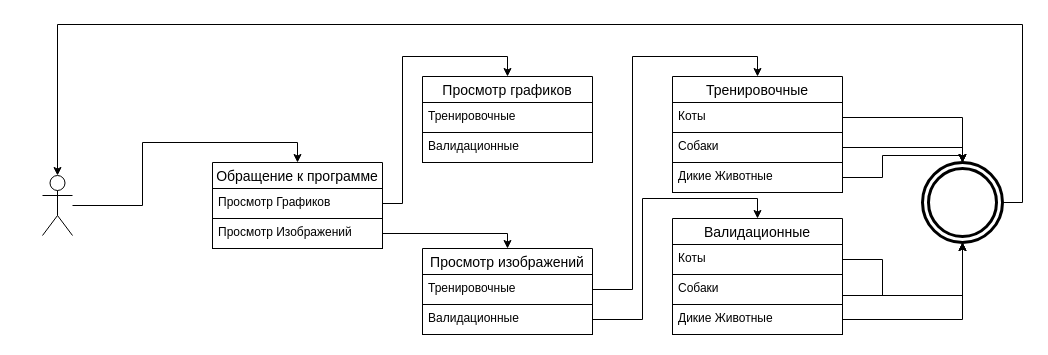
This 1048x355 diagram has some shape labels left out. The shapes that lost their labels are listed below. From the top down, each one's centre as x and y in pixels, then its label:
the point at 57,205: Пользователь
the point at 962,202: Вывод Формы на экран
